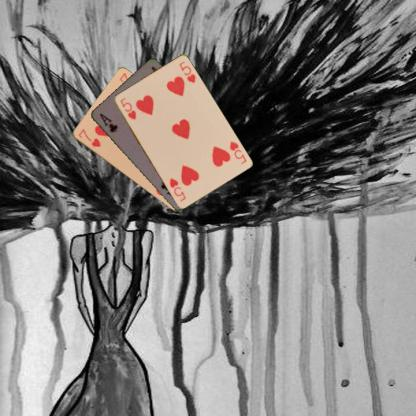5h: (117, 95, 137, 122), (227, 139, 247, 165)
7h: (76, 126, 103, 149)
Ac: (97, 110, 119, 134)
